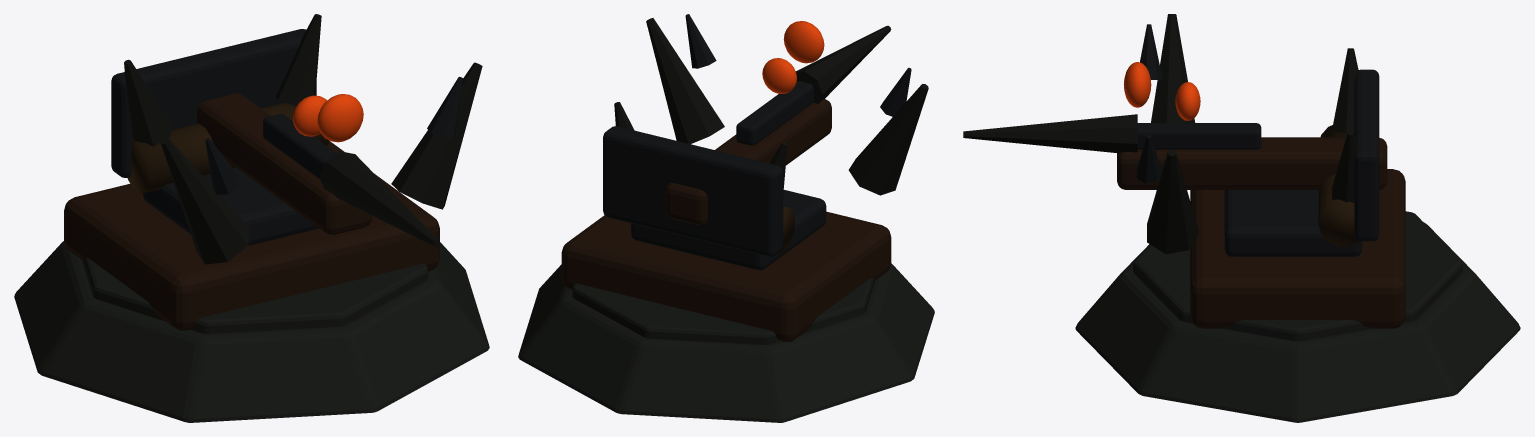
File: TowerDemon3.obj
3 views of the same model, side by side, from view 1: azimuth 30°, elevation 25°; view 2: azimuth 150°, elevation 25°; view 3: azimuth 270°, elevation 25° (orthographic). The views are drawn at different scales.
Visible parts, largest first — view 1: charred_stone_footing_lower_course, dark_oak_altar_bed, iron_horn_mantle, charred_stone_footing_upper_course, demon_stock, bone_bow_limb, black_iron_pivot, bone_bow_limb.001, bone_demon_bolt, bronze_blood_winch, altar_horn, iron_demon_guide (+5 smaller); view 2: charred_stone_footing_lower_course, dark_oak_altar_bed, iron_horn_mantle, charred_stone_footing_upper_course, demon_stock, bone_bow_limb.001, black_iron_pivot, bone_bow_limb, bone_demon_bolt, iron_demon_guide, apex_demon_ember, amber_cursed_sight (+3 smaller); view 3: charred_stone_footing_lower_course, dark_oak_altar_bed, charred_stone_footing_upper_course, demon_stock, black_iron_pivot, iron_horn_mantle, bone_demon_bolt, bone_bow_limb.001, iron_demon_guide, bone_bow_limb, bronze_blood_winch, altar_horn (+5 smaller).
Part boxes in pixels (x1,y1,x2,y2): charred_stone_footing_lower_course: [14, 241, 489, 422]; dark_oak_altar_bed: [64, 141, 439, 330]; iron_horn_mantle: [111, 29, 316, 177]; charred_stone_footing_upper_course: [82, 257, 427, 333]; demon_stock: [197, 93, 372, 234]; bone_bow_limb: [160, 138, 250, 264]; black_iron_pivot: [143, 167, 318, 245]; bone_bow_limb.001: [391, 62, 482, 209]; bone_demon_bolt: [320, 151, 439, 246]; bronze_blood_winch: [127, 102, 329, 193]; altar_horn: [124, 59, 172, 146]; iron_demon_guide: [263, 114, 336, 179]; charred_stone_footing_lower_course: [518, 263, 934, 422]; dark_oak_altar_bed: [561, 211, 891, 342]; iron_horn_mantle: [603, 126, 783, 256]; charred_stone_footing_upper_course: [572, 278, 875, 344]; demon_stock: [665, 99, 831, 225]; bone_bow_limb.001: [646, 18, 724, 144]; black_iron_pivot: [631, 190, 826, 270]; bone_bow_limb: [848, 84, 928, 195]; bone_demon_bolt: [795, 25, 891, 103]; iron_demon_guide: [736, 81, 813, 145]; apex_demon_ember: [783, 21, 824, 63]; amber_cursed_sight: [762, 58, 796, 93]; charred_stone_footing_lower_course: [1075, 222, 1520, 422]; dark_oak_altar_bed: [1190, 169, 1405, 328]; charred_stone_footing_upper_course: [1133, 211, 1462, 341]; demon_stock: [1117, 137, 1387, 189]; black_iron_pivot: [1224, 190, 1362, 256]; iron_horn_mantle: [1354, 69, 1379, 241]; bone_demon_bolt: [963, 114, 1137, 153]; bone_bow_limb.001: [1147, 149, 1199, 254]; iron_demon_guide: [1137, 123, 1261, 149]; bone_bow_limb: [1151, 14, 1195, 122]; bronze_blood_winch: [1318, 125, 1359, 246]; altar_horn: [1332, 48, 1358, 132].
Size of the model in its own units: 1.94 by 1.28 by 2.43.
